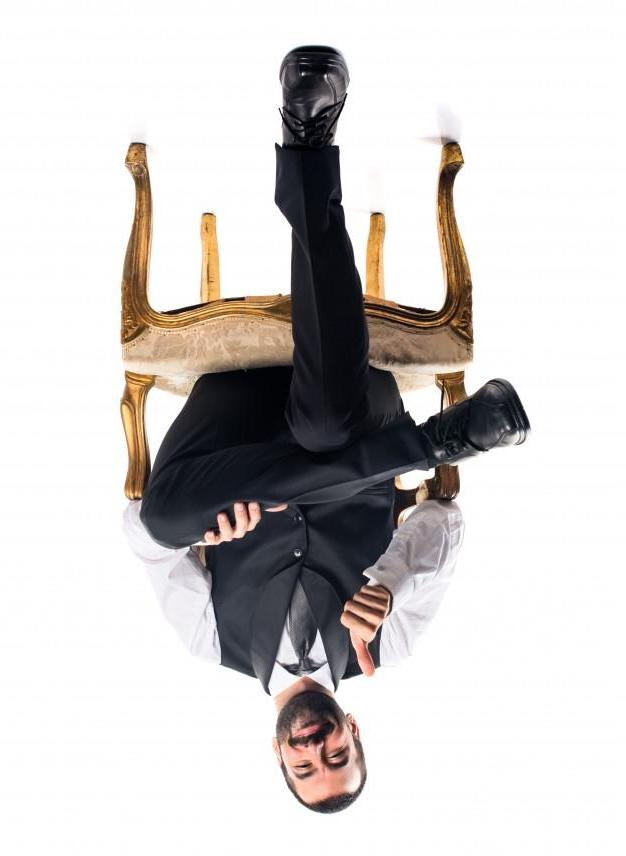thumbsdown: (341, 585, 390, 677)
